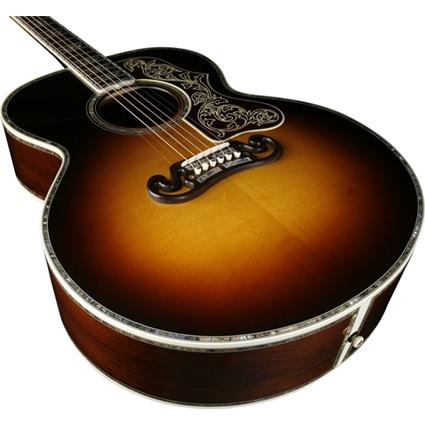guitar: (1, 16, 425, 410)
